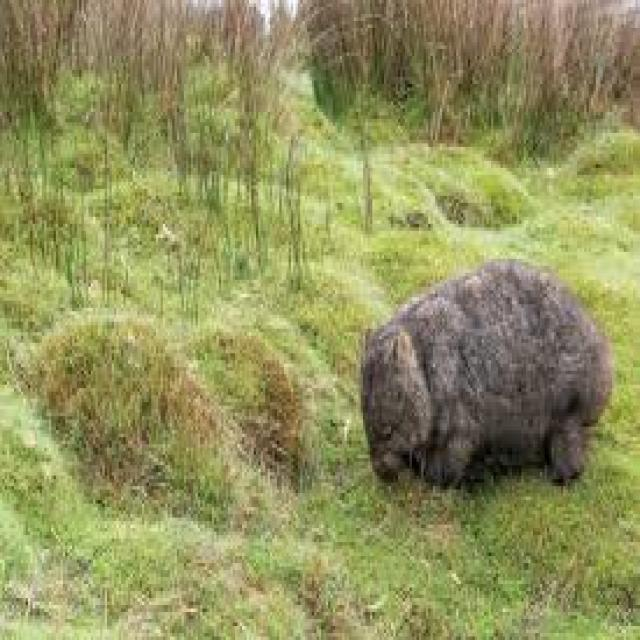Wombat: (354, 257, 610, 491)
